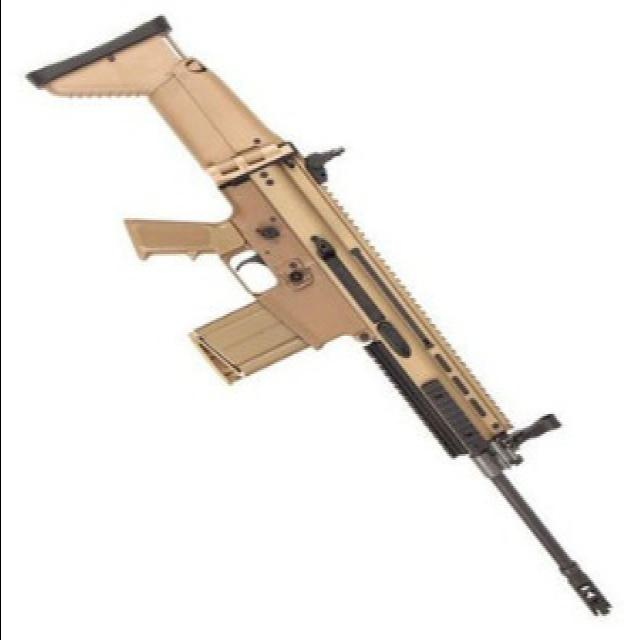rifle: (27, 15, 621, 625)
